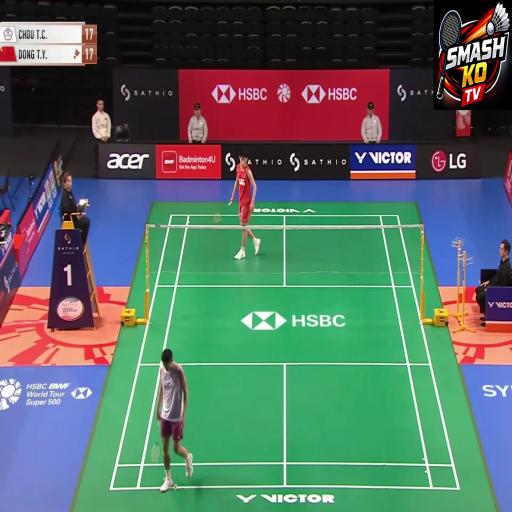player: (210, 144, 285, 290), (142, 320, 193, 495)
